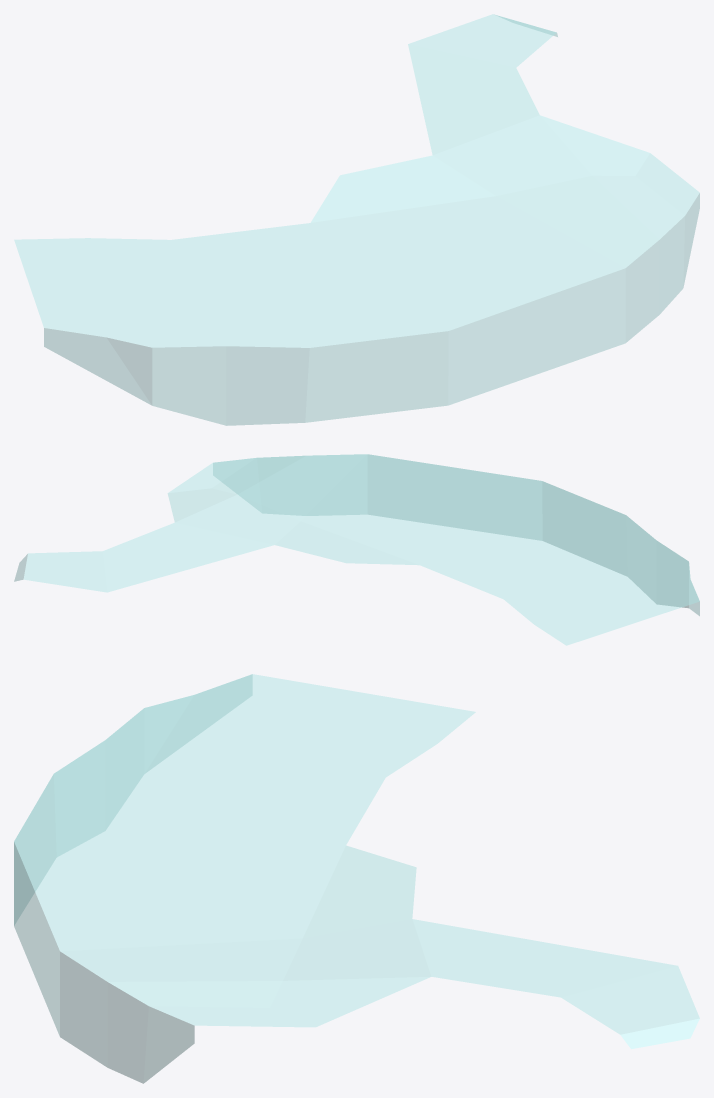
The model's file is Zee middel.fbx.
3 renders of one model, top to bottom at view 1: azimuth 30°, elevation 25°; view 2: azimuth 150°, elevation 25°; view 3: azimuth 270°, elevation 25°, orthographic. The views are drawn at different scales.
Parts seen in each view (by area): view 1: Water_2; view 2: Water_2; view 3: Water_2.
Boxes of the visible parts, x1,y1,x2,y2 form: Water_2: (14,14,699,425); Water_2: (14,454,699,645); Water_2: (14,674,699,1083).
Bounding box in the file's own units: 15.13 × 2.02 × 11.57.
